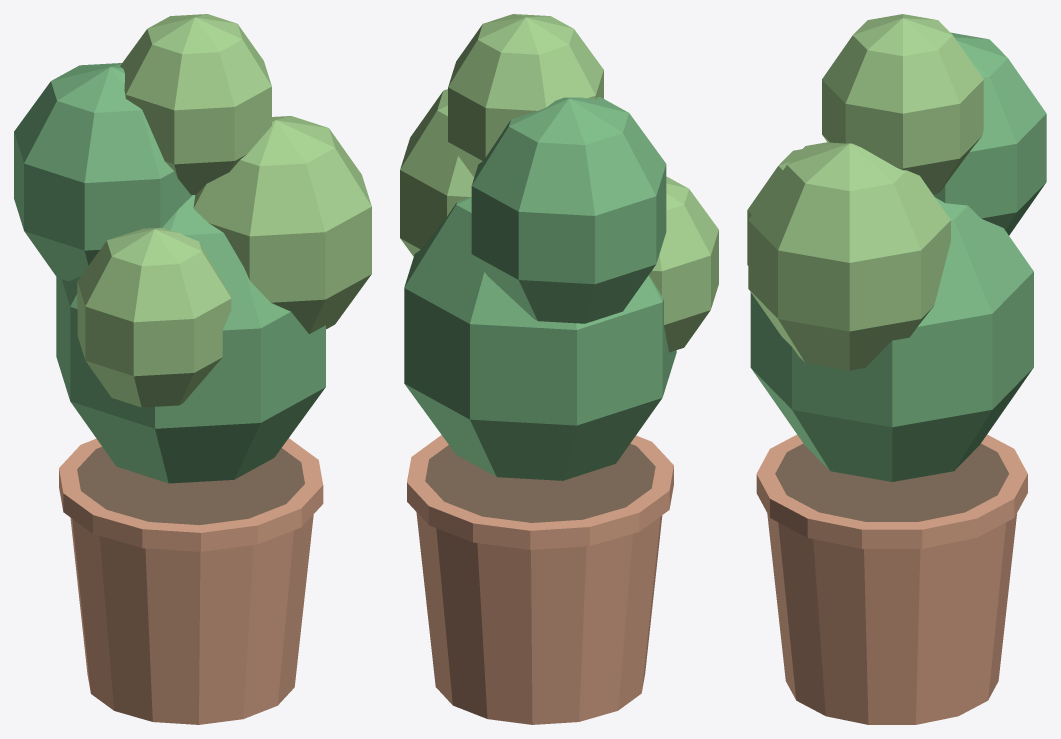
3 views of the same model, side by side, from view 1: azimuth 30°, elevation 25°; view 2: azimuth 150°, elevation 25°; view 3: azimuth 270°, elevation 25° (orthographic).
Parts seen in each view (by area): view 1: Decor_potted_plant; view 2: Decor_potted_plant; view 3: Decor_potted_plant.
Boxes of the visible parts, <box> form: Decor_potted_plant: <box>14,14,371,724</box>; Decor_potted_plant: <box>400,14,718,724</box>; Decor_potted_plant: <box>747,14,1046,724</box>.
Size of the model in its own units: 0.6404 by 1.38 by 0.5624.
